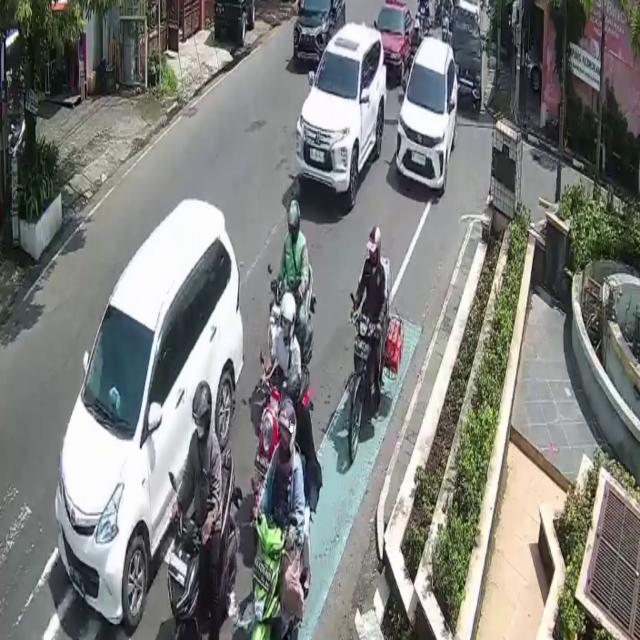car: (56, 197, 244, 627), (296, 23, 386, 205), (394, 36, 458, 194), (450, 0, 482, 117), (294, 1, 347, 65), (376, 0, 415, 84)
motorbike: (168, 449, 242, 640), (251, 515, 293, 640), (347, 315, 378, 464)
